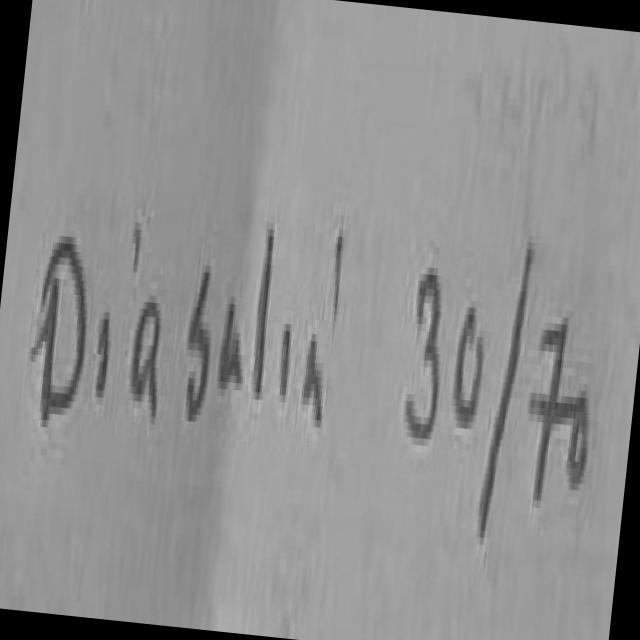0: (454, 307, 485, 428), (569, 397, 590, 487)
3: (403, 264, 442, 449)
7: (533, 325, 575, 497)
D: (39, 237, 85, 423)
a: (131, 302, 160, 414)
i: (96, 312, 110, 394), (280, 324, 292, 399), (335, 222, 342, 325), (132, 215, 139, 269)
l: (254, 229, 274, 396)
n: (296, 330, 324, 437)
s: (187, 272, 210, 421)
u: (216, 286, 242, 401)
